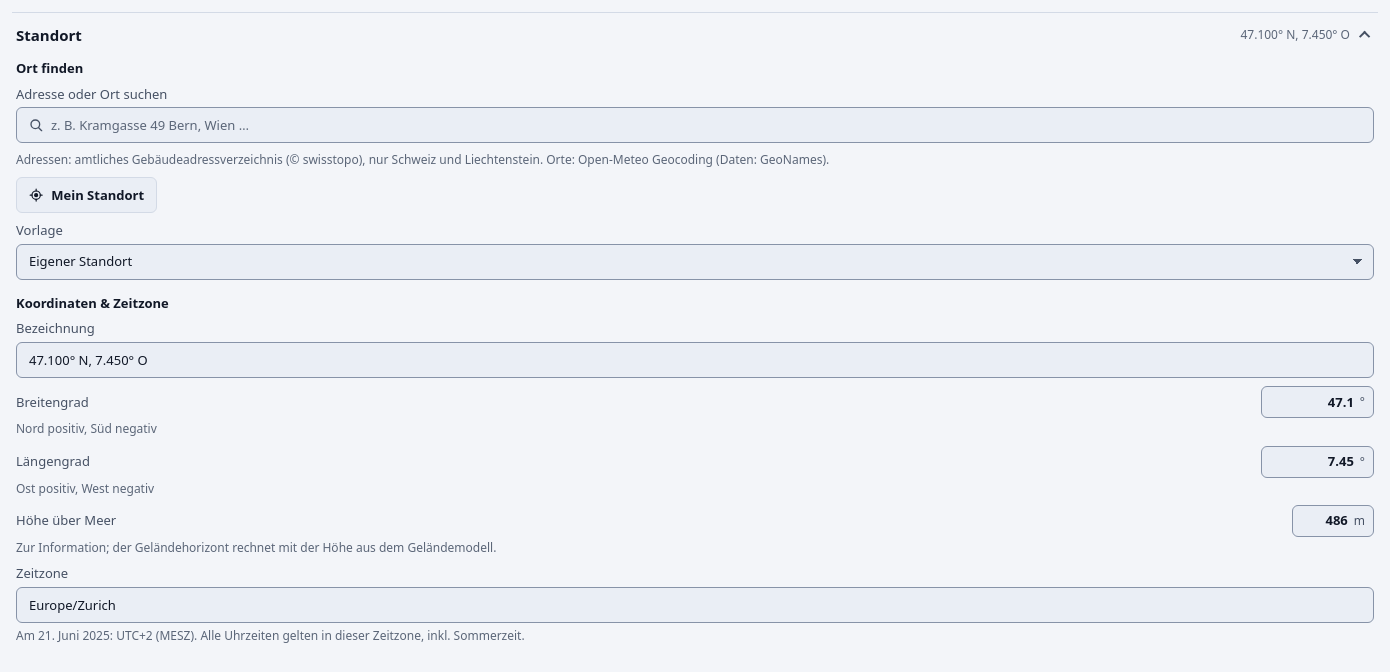
Test: LocationSection › address search › keeps the elevation when the height service fails; retries the building register
In the dropdown labelled "Adresse oder Ort suchen": (695, 125) left=16, top=107, right=1374, bottom=143, type "Kramgasse 49 Bern"
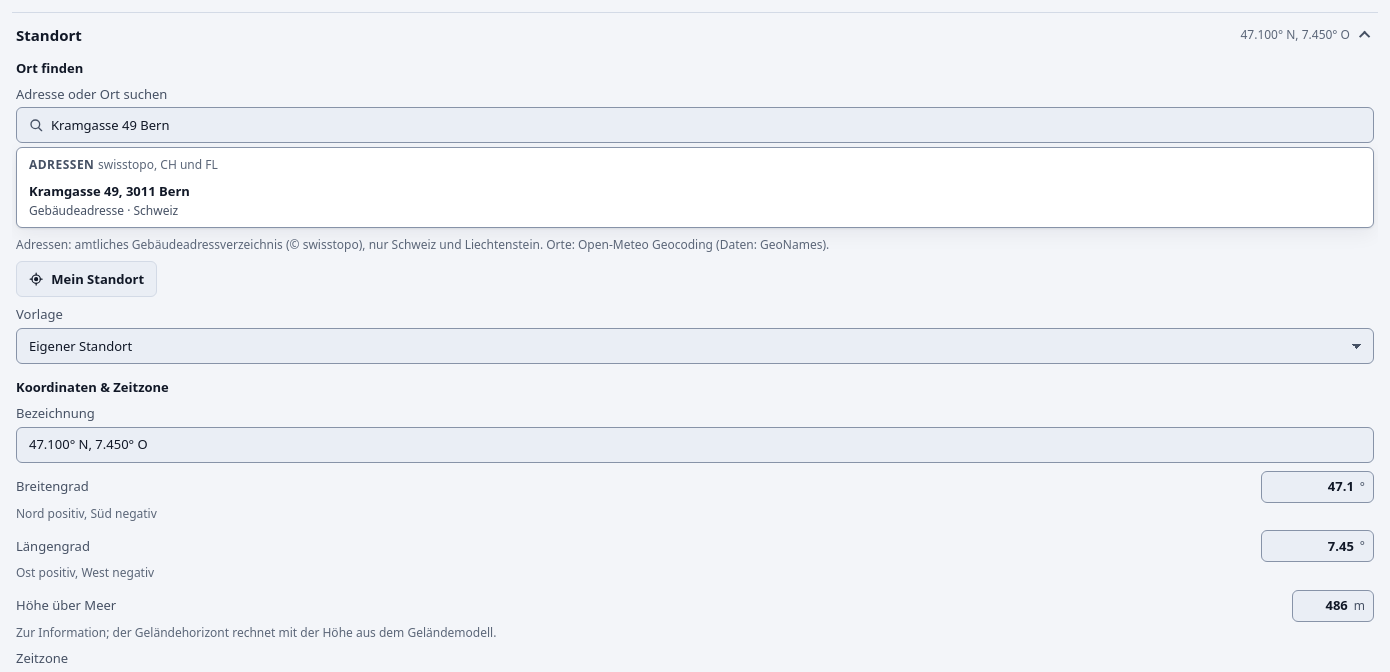
Result: the list is shown at left=21, top=152, right=1369, bottom=223
Press ArrowDown in the dropdown labelled "Adresse oder Ort suchen", box left=16, top=107, right=1374, bottom=143
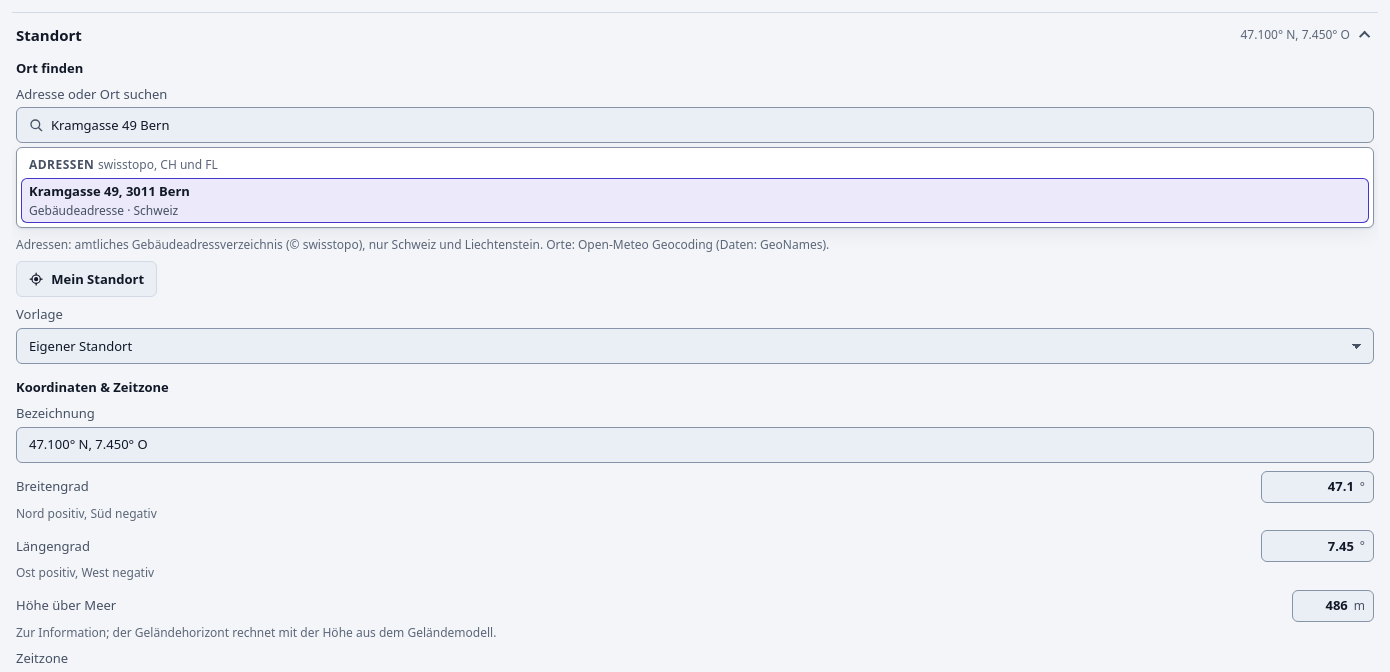
Press Enter in the dropdown labelled "Adresse oder Ort suchen", box left=16, top=107, right=1374, bottom=143
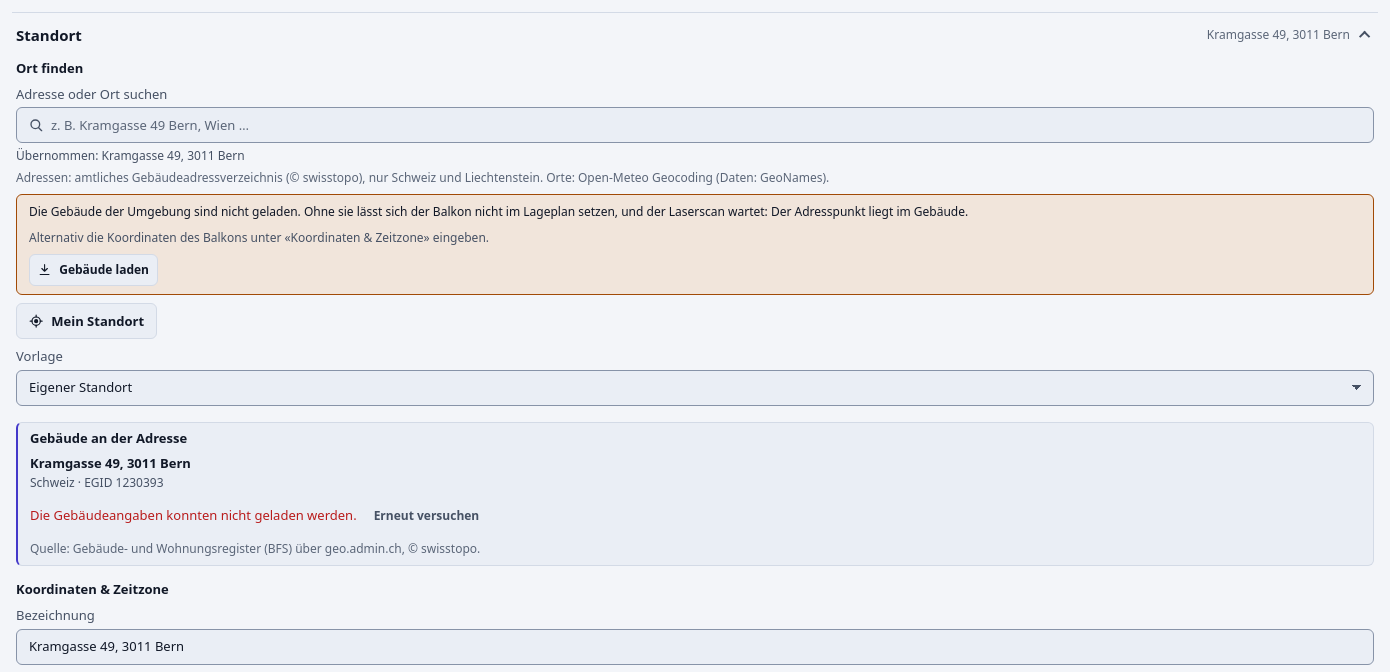
Result: the message "Die Gebäudeangaben konnten nicht geladen werden. Erneut versuchen" is shown at left=30, top=500, right=488, bottom=532
Click the button "Erneut versuchen": (426, 516) left=365, top=500, right=488, bottom=532
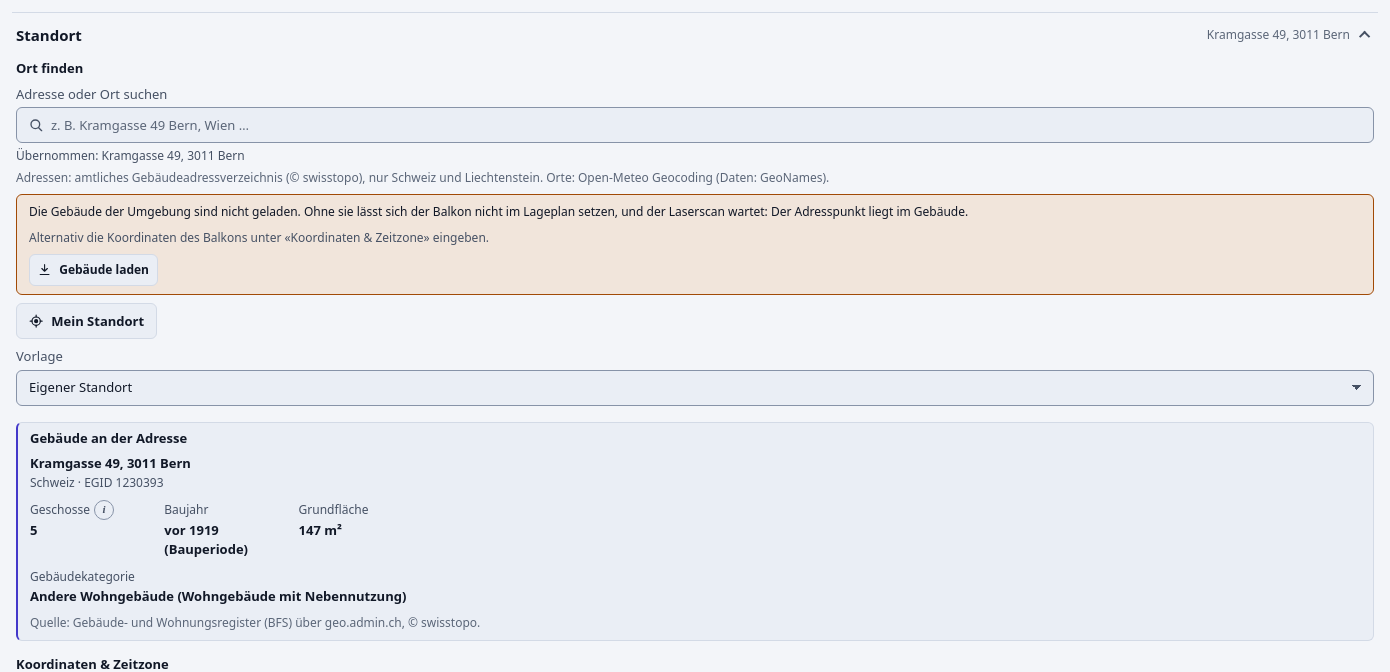
Result: the text "5" is shown at left=30, top=521, right=37, bottom=539
